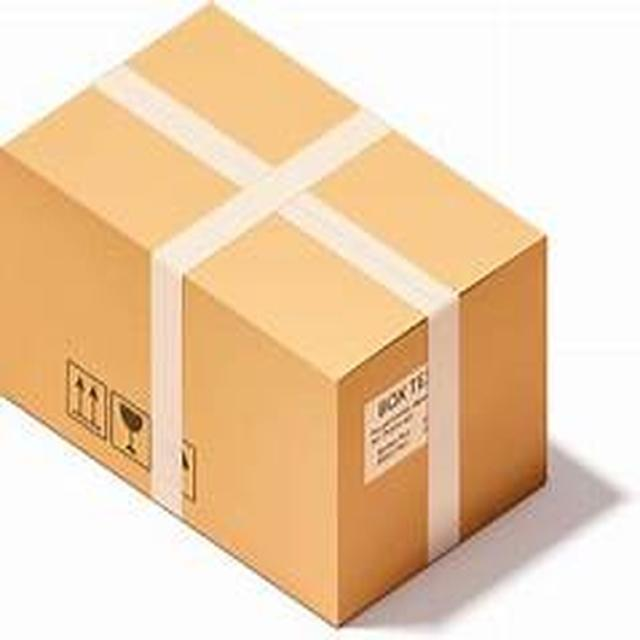box: (0, 22, 554, 606)
